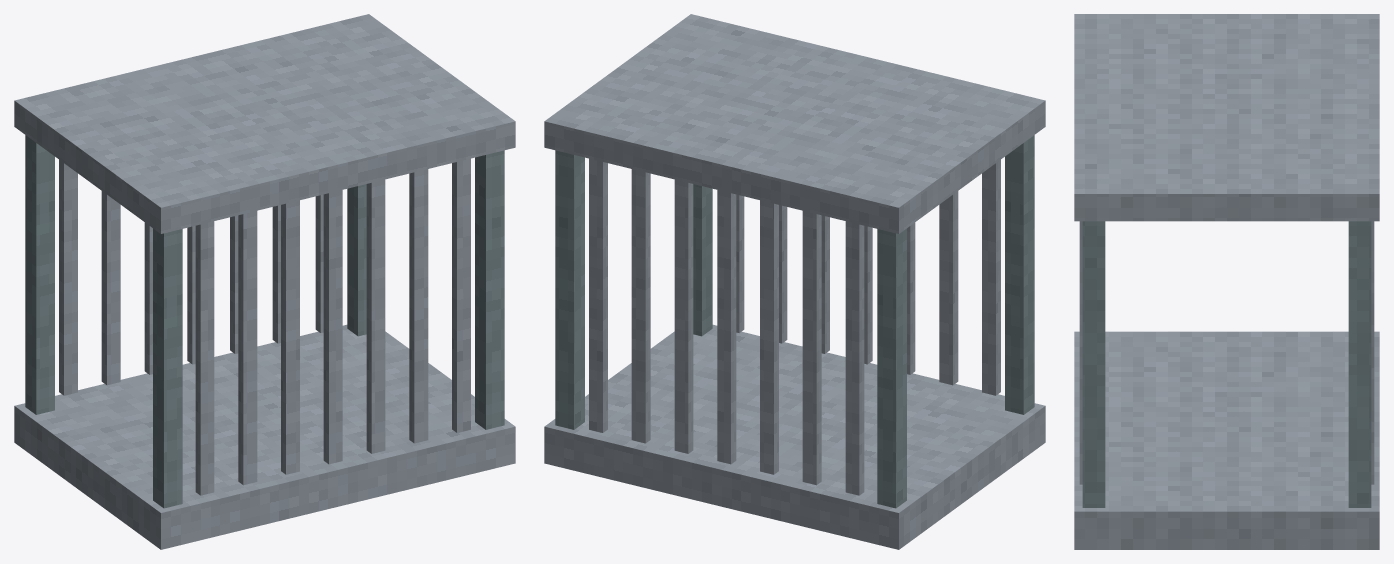
The model's file is level_blockout_refined_battery_vent_cage.glb.
3 views of the same model, side by side, from view 1: azimuth 30°, elevation 25°; view 2: azimuth 150°, elevation 25°; view 3: azimuth 270°, elevation 25° (orthographic). The views are drawn at different scales.
Visible parts, largest first — view 1: level_blockout_refined_battery_vent_cage; view 2: level_blockout_refined_battery_vent_cage; view 3: level_blockout_refined_battery_vent_cage.
Part boxes in pixels (x1,y1,x2,y2): level_blockout_refined_battery_vent_cage: (14, 14, 515, 549); level_blockout_refined_battery_vent_cage: (544, 14, 1045, 549); level_blockout_refined_battery_vent_cage: (1074, 14, 1379, 549).
Bounding box in the file's own units: 1.41 × 1.3 × 1.01.
2 materials, 2 textured.
